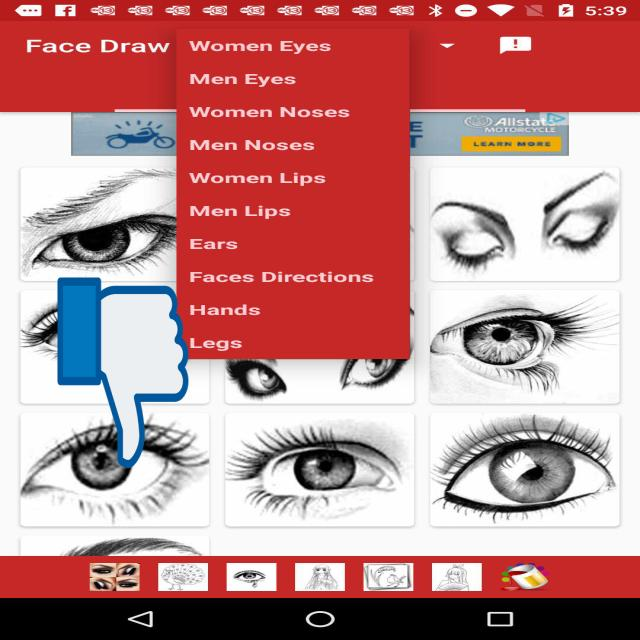obstruction: (58, 274, 188, 472)
